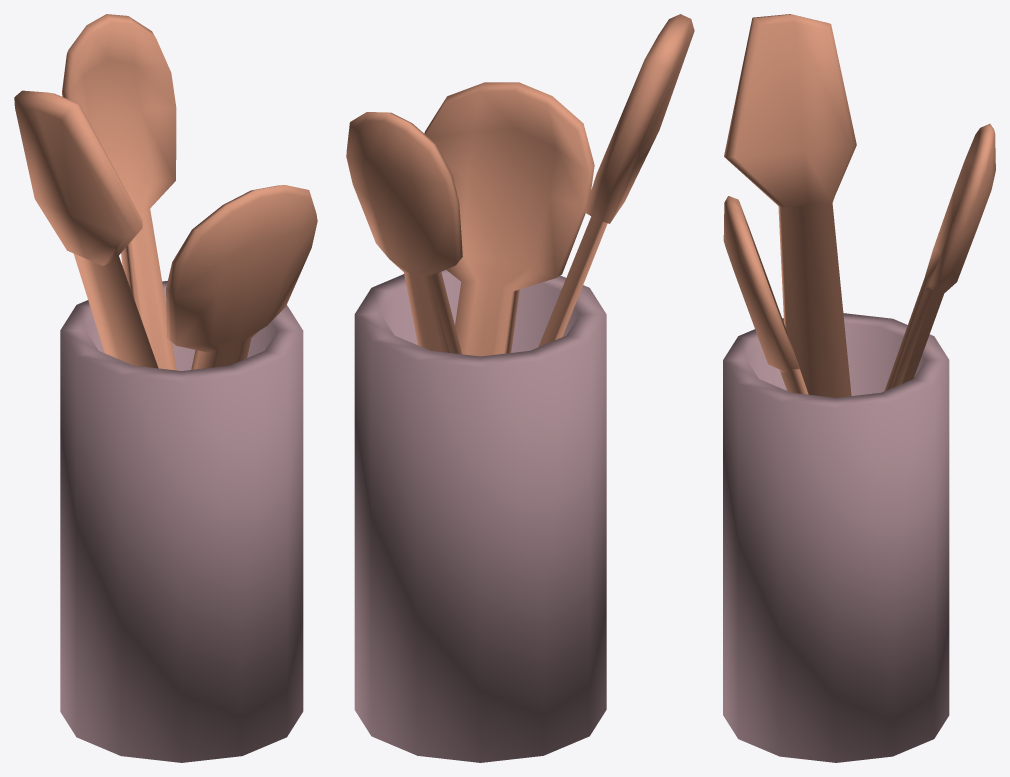
The model's file is Utensils.fbx.
3 views of the same model, side by side, from view 1: azimuth 30°, elevation 25°; view 2: azimuth 150°, elevation 25°; view 3: azimuth 270°, elevation 25° (orthographic). The views are drawn at different scales.
Parts seen in each view (by area): view 1: holder, spoon, spoon.001, Plane.004; view 2: holder, spoon.001, spoon, Plane.004; view 3: holder, Plane.004, spoon, spoon.001.
Boxes of the visible parts, x1=… form: holder: x1=60, y1=281, x2=303, y2=762; spoon: x1=62, y1=14, x2=176, y2=370; spoon.001: x1=166, y1=185, x2=317, y2=369; Plane.004: x1=14, y1=90, x2=158, y2=368; holder: x1=354, y1=269, x2=606, y2=762; spoon.001: x1=424, y1=82, x2=594, y2=356; spoon: x1=346, y1=112, x2=462, y2=354; Plane.004: x1=538, y1=14, x2=694, y2=347; holder: x1=723, y1=313, x2=949, y2=762; Plane.004: x1=724, y1=14, x2=856, y2=397; spoon: x1=884, y1=123, x2=995, y2=390; spoon.001: x1=723, y1=196, x2=808, y2=394.
Bounding box in the file's own units: 53.83 × 124 × 48.78.
